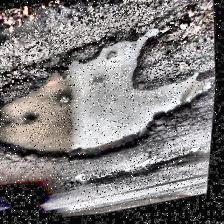pothole: (0, 22, 222, 182)
